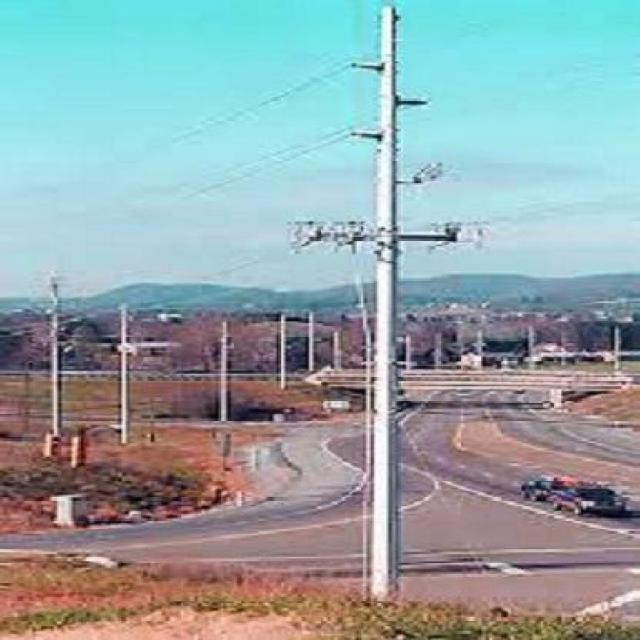pole: (309, 13, 477, 604)
